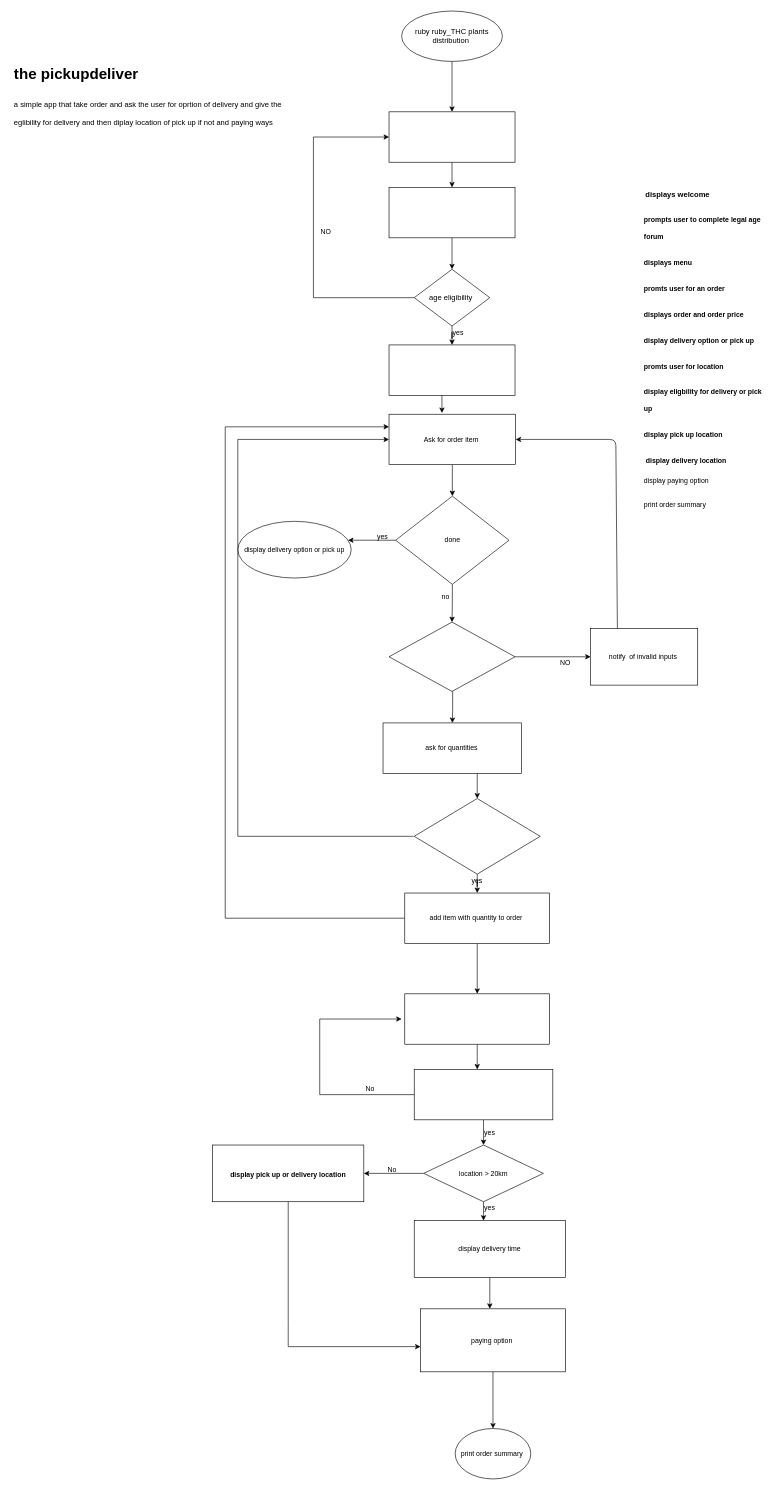
Image size: 777x1490. Some labels were removed from this diagram. Each missing label, with the centre of its shape:
"ask for location" goes at pixel 483 1094.
"Ask for user age" goes at pixel 451 212.
"delivery or pick up" goes at pixel 477 1018.
"print menu" goes at pixel 451 369.
"print welcome" goes at pixel 451 136.
"quantity > 0" goes at pixel 477 836.
"valid item?" goes at pixel 451 656.
